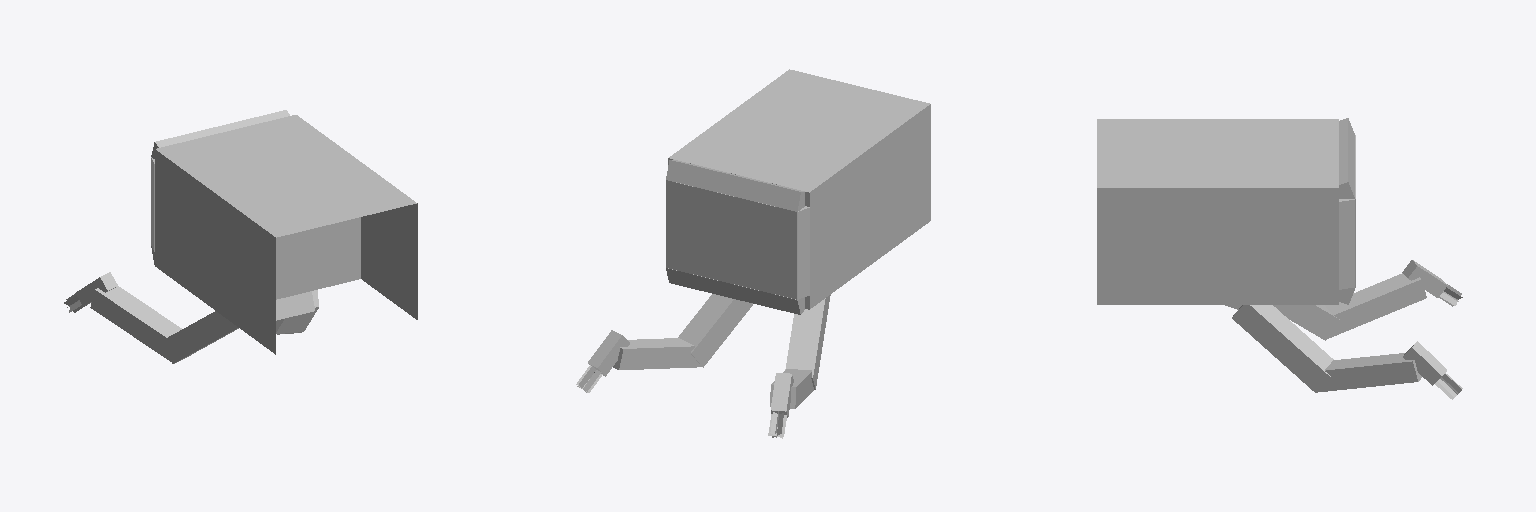
The model's file is droid.obj.
The picture shows the model from 3 angles: view 1: azimuth 30°, elevation 25°; view 2: azimuth 150°, elevation 25°; view 3: azimuth 270°, elevation 25°; orthographic projection.
Visible parts, largest first — view 1: cube; view 2: cube; view 3: cube.
Part boxes in pixels (x1,y1,x2,y2): cube: (64, 110, 417, 363); cube: (576, 69, 930, 438); cube: (1097, 118, 1462, 399).
Size of the model in its own units: 1.22 by 1.19 by 1.87.